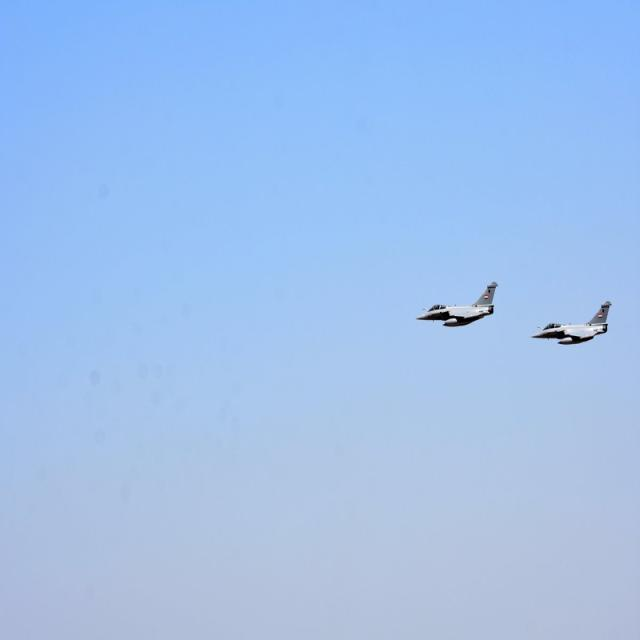MIL_Plane: (415, 281, 499, 327), (530, 300, 611, 345)
